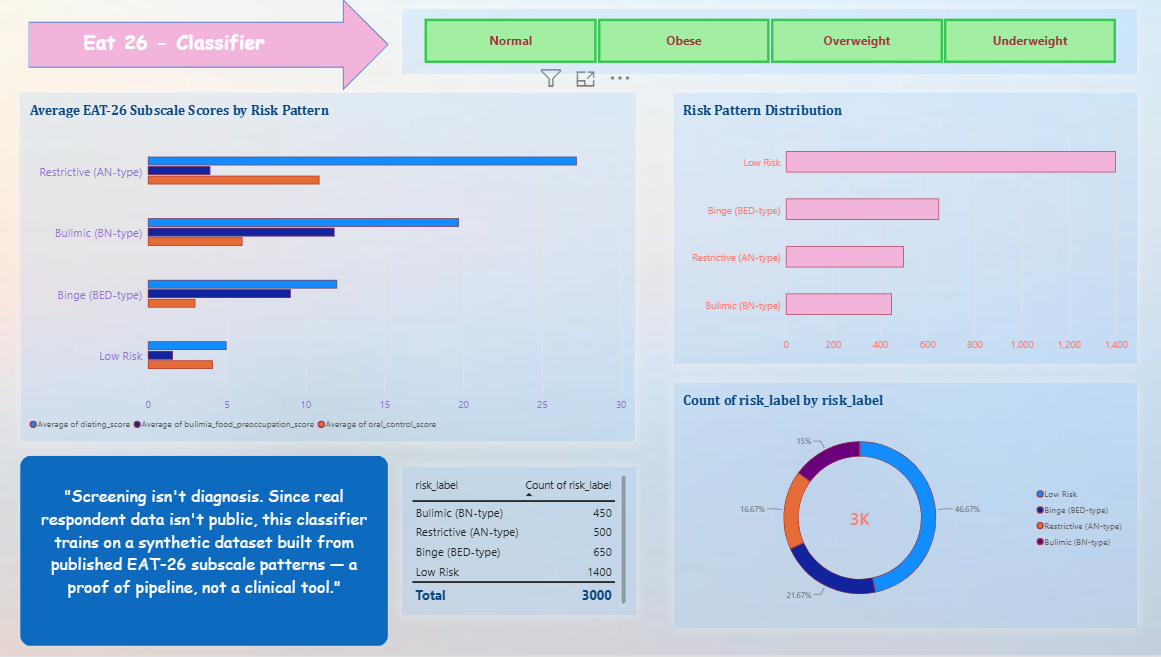

Layout of this report page (visuals, bound fields, positions):
{"tool":"powerbi","page":{"name":"EAT26-CLASSIFIER","canvas":[1920,1080],"ordinal":1},"visuals":[{"type":"shape","box":[53.5,0,592.8,150.3],"z":0,"group":"g1"},{"type":"clusteredBarChart","title":"Risk Pattern Distribution","fields":{"Category":["eat26_synthetic.risk_label"],"Y":["CountNonNull(eat26_synthetic.risk_label)"]},"box":[1115.6,154.4,763.6,446.7],"z":0},{"type":"textbox","box":[0,47.3,586.6,49.4],"z":1000,"group":"g1"},{"type":"clusteredBarChart","title":"Average EAT-26 Subscale Scores by Risk Pattern","fields":{"Category":["eat26_synthetic.risk_label"],"Y":["Avg(eat26_synthetic.dieting_score)","Avg(eat26_synthetic.bulimia_food_preoccupation_score)","Avg(eat26_synthetic.oral_control_score)"]},"box":[39.1,154.4,1014.8,576.3],"z":1000},{"type":"slicer","fields":{"Values":["eat26_synthetic.bmi_category"]},"box":[669,16.5,1210.3,107],"z":2000},{"type":"tableEx","fields":{"Values":["eat26_synthetic.risk_label","CountNonNull(eat26_synthetic.risk_label)"]},"box":[669,769.8,384.9,244.9],"z":3000},{"type":"donutChart","fields":{"Category":["eat26_synthetic.risk_label"],"Y":["CountNonNull(eat26_synthetic.risk_label)"]},"box":[1115.6,631.9,763.6,403.4],"z":4000},{"type":"shape","box":[39.1,751.3,607.2,314.9],"z":5000},{"type":"group","id":"g1","title":"Group 1","box":[0,0,646.3,150.3],"z":6000},{"type":"textbox","box":[70,798.6,545.5,222.3],"z":7000}]}

Visuals, with their boxes in screenshot pixels (x1, y1, x2, y2), scaled from the page's 1920x1080 canvas onto the 1161x657 screenshot:
shape: 32:0:391:91
"Risk Pattern Distribution" clusteredBarChart: 675:94:1136:366
textbox: 0:29:355:59
"Average EAT-26 Subscale Scores by Risk Pattern" clusteredBarChart: 24:94:637:445
slicer - eat26_synthetic.bmi_category: 405:10:1136:75
tableEx - eat26_synthetic.risk_label x CountNonNull(eat26_synthetic.risk_label): 405:468:637:617
donutChart - eat26_synthetic.risk_label x CountNonNull(eat26_synthetic.risk_label): 675:384:1136:630
shape: 24:457:391:649
"Group 1" group: 0:0:391:91
textbox: 42:486:372:621
